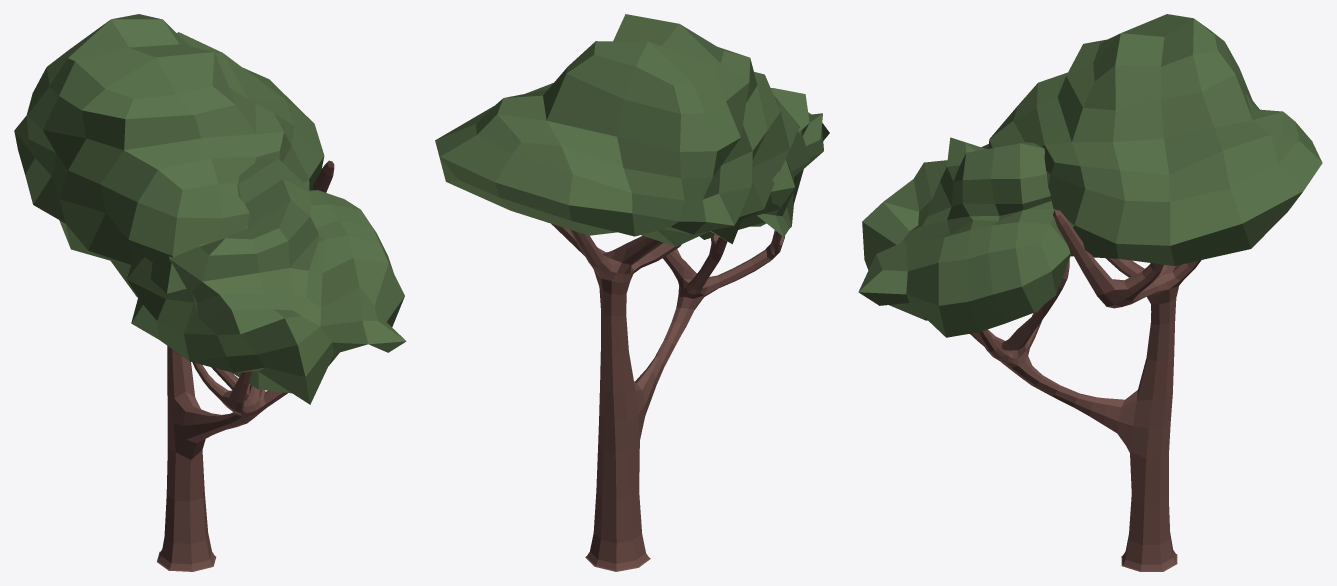
The model's file is tree2.glb.
The picture shows the model from 3 angles, left to right: view 1: azimuth 30°, elevation 25°; view 2: azimuth 150°, elevation 25°; view 3: azimuth 270°, elevation 25°; orthographic projection. The views are drawn at different scales.
Visible parts, largest first — view 1: CommonTree_2; view 2: CommonTree_2; view 3: CommonTree_2.
Boxes of the visible parts, left/top/right/bottom form: CommonTree_2: left=14, top=14, right=406, bottom=571; CommonTree_2: left=435, top=14, right=829, bottom=571; CommonTree_2: left=858, top=14, right=1322, bottom=571.
Bounding box in the file's own units: 1.66 × 3.12 × 2.54.
